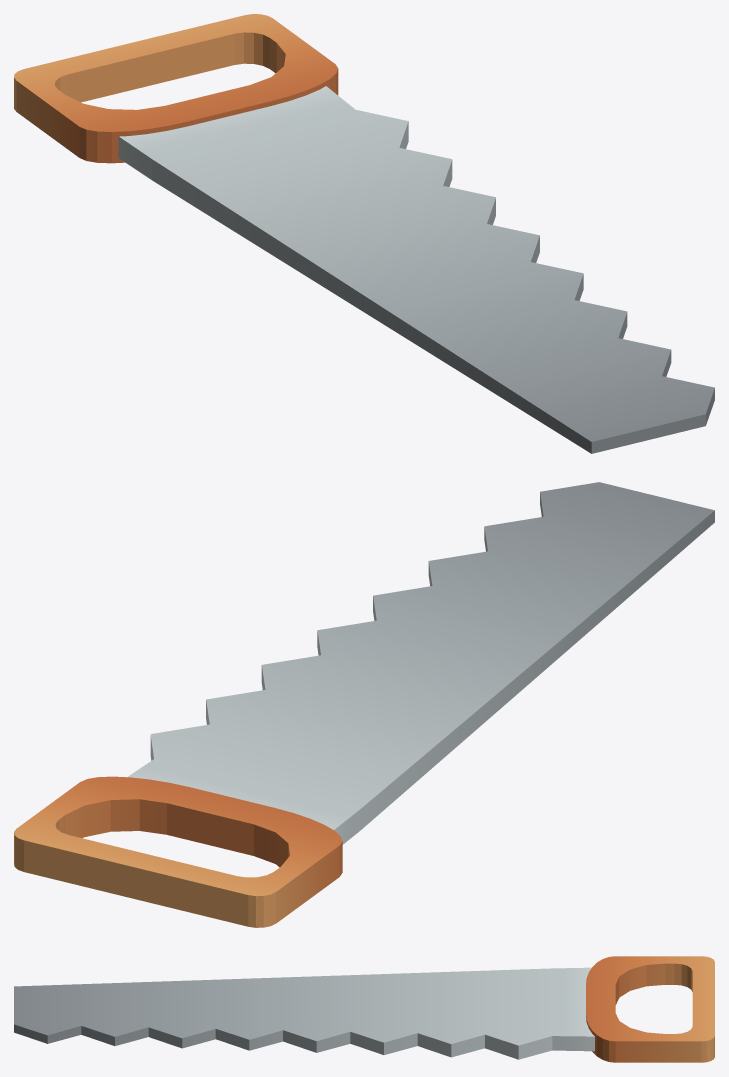
Rendered from Saw.fbx.
3 renders of one model, top to bottom at view 1: azimuth 30°, elevation 25°; view 2: azimuth 150°, elevation 25°; view 3: azimuth 270°, elevation 25°, orthographic. The views are drawn at different scales.
Parts seen in each view (by area): view 1: Saw; view 2: Saw; view 3: Saw.
Boxes of the visible parts, x1,y1,x2,y2 form: Saw: (14,14,714,453); Saw: (14,482,714,927); Saw: (14,956,714,1062).
Bounding box in the file's own units: 0.1966 × 0.0228 × 0.6785.
